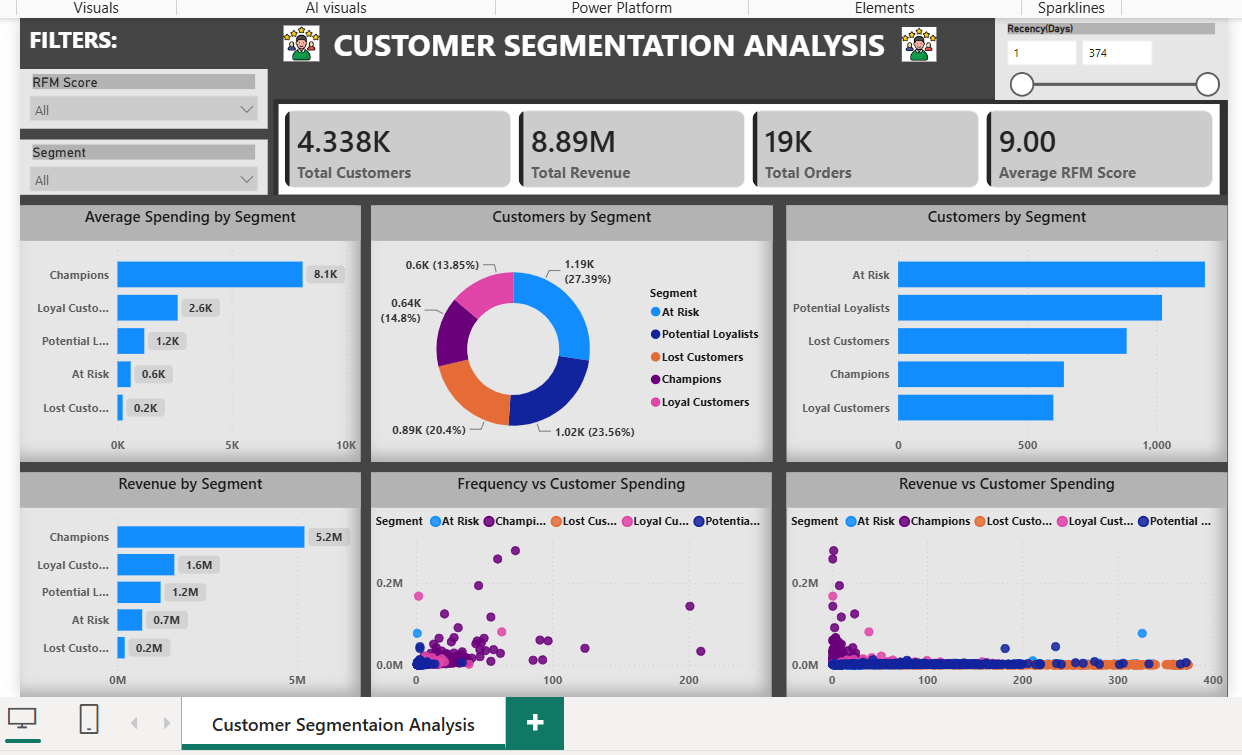

Layout of this report page (visuals, bound fields, positions):
{"tool":"powerbi","page":{"name":"Customer Segmentaion Analysis","canvas":[1280,720],"ordinal":0},"visuals":[{"type":"cardVisual","fields":{"Data":["Count(Customer_RFM_Segmentation.CustomerID)","Sum(Customer_RFM_Segmentation.Monetary)","Sum(Customer_RFM_Segmentation.Frequency)","Avg(Customer_RFM_Segmentation.RFM_Score)"]},"box":[268.8,85.9,1011.6,101.8],"z":0},{"type":"donutChart","title":"Customers by Segment","fields":{"Category":["Customer_RFM_Segmentation.Segment"],"Y":["Count(Customer_RFM_Segmentation.CustomerID)"]},"box":[372.4,199.2,425.9,272],"z":1000},{"type":"clusteredBarChart","title":"Customers by Segment","fields":{"Y":["CountNonNull(Customer_RFM_Segmentation.CustomerID)"],"Category":["Customer_RFM_Segmentation.Segment"]},"box":[812.8,198.8,467.6,272],"z":2000},{"type":"clusteredBarChart","title":"Revenue by Segment","fields":{"Category":["Customer_RFM_Segmentation.Segment"],"Y":["Sum(Customer_RFM_Segmentation.Monetary)"]},"box":[0,482,361.1,238.6],"z":3000},{"type":"clusteredBarChart","title":"Average Spending by Segment","fields":{"Category":["Customer_RFM_Segmentation.Segment"],"Y":["Avg(Customer_RFM_Segmentation.Monetary)"]},"box":[0,198.8,361.1,272],"z":4000},{"type":"scatterChart","title":"Revenue vs Customer Spending","fields":{"X":["Sum(Customer_RFM_Segmentation.Recency)"],"Y":["Sum(Customer_RFM_Segmentation.Monetary)"],"Series":["Customer_RFM_Segmentation.Segment"],"Category":["Customer_RFM_Segmentation.CustomerID"]},"box":[812.8,482,467.6,238.6],"z":5000},{"type":"scatterChart","title":"Frequency vs Customer Spending","fields":{"Category":["Customer_RFM_Segmentation.CustomerID"],"X":["Sum(Customer_RFM_Segmentation.Frequency)"],"Y":["Sum(Customer_RFM_Segmentation.Monetary)"],"Series":["Customer_RFM_Segmentation.Segment"]},"box":[372.2,482,424.7,238.6],"z":6000},{"type":"slicer","fields":{"Values":["Customer_RFM_Segmentation.Segment"]},"box":[0,128.8,262.5,58.9],"z":7000},{"type":"slicer","fields":{"Values":["Customer_RFM_Segmentation.RFM_Score"]},"box":[0,54.1,262.5,63.6],"z":8000},{"type":"slicer","fields":{"Values":["Customer_RFM_Segmentation.Recency"]},"box":[1033.9,0,246.5,85.9],"z":9000},{"type":"textbox","box":[327.7,0,625.1,68.4],"z":10000},{"type":"textbox","box":[4.8,0,149.5,54.1],"z":11000},{"type":"image","box":[268.8,8,58.9,38.2],"z":12000},{"type":"image","box":[917.8,9.5,71.6,36.6],"z":13000}]}

Visuals, with their boxes in screenshot pixels (x1, y1, x2, y2):
cardVisual - Count(Customer_RFM_Segmentation.CustomerID) x Sum(Customer_RFM_Segmentation.Monetary): 280,95,1214,189
"Customers by Segment" donutChart: 376,200,769,451
"Customers by Segment" clusteredBarChart: 783,200,1214,451
"Revenue by Segment" clusteredBarChart: 32,461,366,681
"Average Spending by Segment" clusteredBarChart: 32,200,366,451
"Revenue vs Customer Spending" scatterChart: 783,461,1214,681
"Frequency vs Customer Spending" scatterChart: 376,461,768,681
slicer - Customer_RFM_Segmentation.Segment: 32,135,275,189
slicer - Customer_RFM_Segmentation.RFM_Score: 32,66,275,125
slicer - Customer_RFM_Segmentation.Recency: 987,16,1214,95
textbox: 335,16,912,79
textbox: 37,16,175,66
image: 280,24,335,59
image: 879,25,946,59
